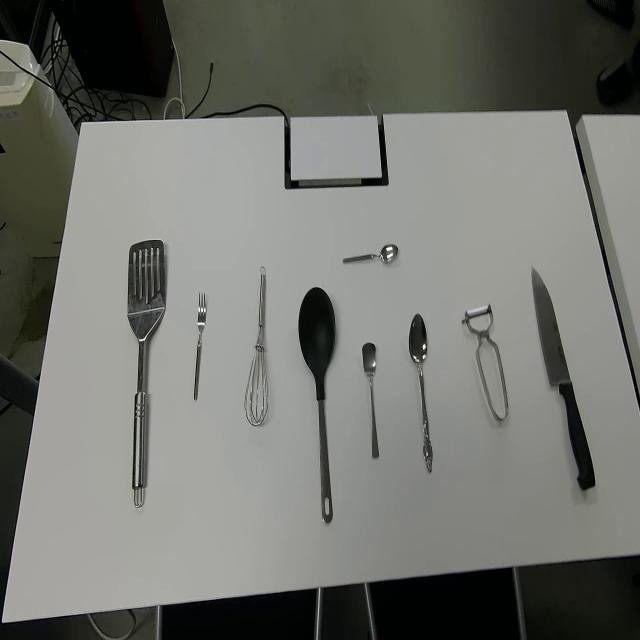Desert-Spoon: (408, 311, 433, 475)
Dinner-Fork: (193, 290, 208, 403)
Kitchen-Knife: (530, 264, 596, 492)
Peeler: (460, 302, 510, 424)
Serving-Spoon: (127, 237, 166, 508), (298, 286, 336, 526)
Tea-Spoon: (361, 341, 380, 459), (342, 242, 399, 267)
Whisk: (244, 266, 270, 428)
